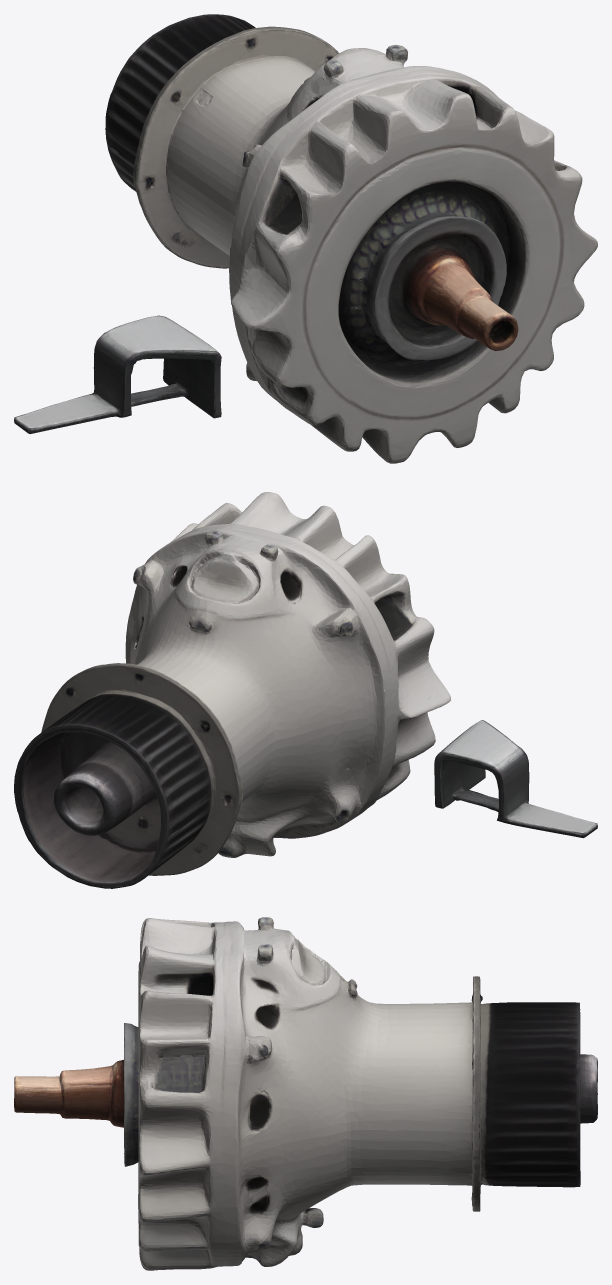
Rendered from Gearbox.glb.
The picture shows the model from 3 angles, top to bottom: view 1: azimuth 30°, elevation 25°; view 2: azimuth 150°, elevation 25°; view 3: azimuth 270°, elevation 25°; orthographic projection. The views are drawn at different scales.
Parts seen in each view (by area): view 1: world; view 2: world; view 3: world.
Part boxes in pixels (left/top/right/bottom): world: left=14, top=14, right=597, bottom=463; world: left=14, top=492, right=597, bottom=888; world: left=14, top=917, right=597, bottom=1270.
Bounding box in the file's own units: 0.7275 × 0.457 × 0.7489.
1 material, 1 textured.
